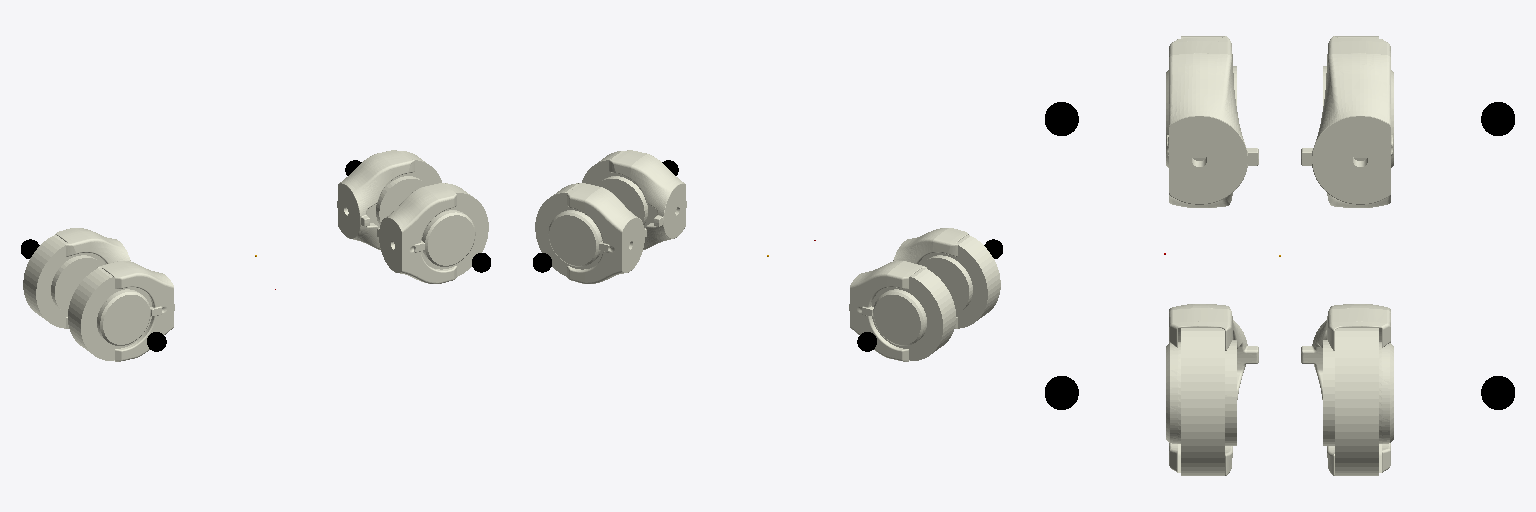
robot.urdf — go1_description:
<?xml version="1.0" ?>
<robot name="go1_description" xmlns:xacro="http://www.ros.org/wiki/xacro">
  <material name="black">
    <color rgba="0.0 0.0 0.0 1.0"/>
  </material>
  <material name="blue">
    <color rgba="0.0 0.0 0.8 1.0"/>
  </material>
  <material name="green">
    <color rgba="0.0 0.8 0.0 1.0"/>
  </material>
  <material name="grey">
    <color rgba="0.2 0.2 0.2 1.0"/>
  </material>
  <material name="silver">
    <color rgba="0.913725490196 0.913725490196 0.847058823529 1.0"/>
  </material>
  <material name="orange">
    <color rgba="1.0 0.423529411765 0.0392156862745 1.0"/>
  </material>
  <material name="brown">
    <color rgba="0.870588235294 0.811764705882 0.764705882353 1.0"/>
  </material>
  <material name="red">
    <color rgba="0.8 0.0 0.0 1.0"/>
  </material>
  <material name="white">
    <color rgba="1.0 1.0 1.0 1.0"/>
  </material>


  <link name="base">
    <visual>
      <origin rpy="0 0 0" xyz="0 0 0"/>
      <geometry>
        <box size="0.001 0.001 0.001"/>
      </geometry>
    </visual>
  </link>
  <joint name="floating_base" type="fixed">
    <origin rpy="0 0 0" xyz="0 0 0"/>
    <parent link="base"/>
    <child link="trunk"/>
  </joint>
  <link name="trunk">
    <visual>
      <origin rpy="0 0 0" xyz="0 0 0"/>
      <geometry>
        <mesh filename="trunk.stl" scale="1 1 1"/>
      </geometry>
      <material name="silver"/>
    </visual>
    <collision>
      <origin rpy="0 0 0" xyz="0 0 0"/>
      <geometry>
        <box size="0.3762 0.0935 0.114"/>
      </geometry>
    </collision>
    <inertial>
      <origin rpy="0 0 0" xyz="0.011611 0.004437 0.000108"/>
      <mass value="4.8"/>
      <inertia ixx="0.016130741919" ixy="0.000593180607" ixz="7.324662e-06" iyy="0.036507810812" iyz="2.0969537e-05" izz="0.044693872053"/>
    </inertial>
  </link>
  <joint name="imu_joint" type="fixed">
    <parent link="trunk"/>
    <child link="imu_link"/>
    <origin rpy="0 0 0" xyz="-0.01592 -0.06659 -0.00617"/>
  </joint>
  <link name="imu_link">
    <inertial>
      <mass value="0.001"/>
      <origin rpy="0 0 0" xyz="0 0 0"/>
      <inertia ixx="0.0001" ixy="0" ixz="0" iyy="0.0001" iyz="0" izz="0.0001"/>
    </inertial>
    <visual>
      <origin rpy="0 0 0" xyz="0 0 0"/>
      <geometry>
        <box size="0.001 0.001 0.001"/>
      </geometry>
      <material name="red"/>
    </visual>
    <!-- <collision>
      <origin rpy="0 0 0" xyz="0 0 0"/>
      <geometry>
        <box size=".001 .001 .001"/>
      </geometry>
    </collision> -->
  </link>
   <joint name="head_joint" type="fixed">
        <parent link="trunk"/>
        <child link="head_link"/>
        <origin rpy="0 0 0" xyz="0.27 0.0 0.0"/>
      </joint>
      <link name="head_link">
        <inertial>
          <mass value="0.000"/>
          <origin rpy="0 0 0" xyz="0 0 0"/>
          <inertia ixx="0.0000" ixy="0" ixz="0" iyy="0.0000" iyz="0" izz="0.0000"/>
        </inertial>
        <collision>
          <origin rpy="0 1.57079632679 0" xyz="0 0 0"/>
          <geometry>
            <cylinder radius="0.062" length="0.04"/>
          </geometry>
        </collision>
      </link>
  <joint name="FR_hip_joint" type="fixed">
    <origin rpy="0 0 0" xyz="0.1881 -0.04675 0"/>
    <parent link="trunk"/>
    <child link="FR_hip"/>
    <axis xyz="1 0 0"/>
    <dynamics damping="0" friction="0"/>
    <limit effort="33.5" lower="-0.802851455917" upper="0.802851455917" velocity="50"/>
  </joint>
  <link name="FR_hip">
    <visual>
      <origin rpy="3.14159265359 0 0" xyz="0 0 0"/>
      <geometry>
        <mesh filename="hip.stl" scale="1 1 1"/>
      </geometry>
      <material name="silver"/>
    </visual>
    <collision>
      <origin rpy="1.57079632679 0 0" xyz="0 -0.045 0"/>
      <geometry>
        <cylinder length="0.04" radius="0.046"/>
      </geometry>
    </collision>
    <inertial>
      <origin rpy="0 0 0" xyz="-0.00541 0.00074 6e-06"/>
      <mass value="0.510299"/>
      <inertia ixx="0.00030528937" ixy="7.788013e-06" ixz="2.2016e-07" iyy="0.000590894859" iyz="1.7175e-08" izz="0.000396594572"/>
    </inertial>
  </link>
  <joint name="FR_hip_fixed" type="fixed">
    <origin rpy="0 0 0" xyz="0 -0.08 0"/>
    <parent link="FR_hip"/>
    <child link="FR_thigh_shoulder"/>
  </joint>
  <!-- this link is only for collision -->
  <link name="FR_thigh_shoulder">
    <!-- <collision>
      <origin rpy="1.57079632679 0 0" xyz="0 0 0"/>
      <geometry>
        <cylinder length="0.032" radius="0.041"/>
      </geometry>
    </collision> -->
  </link>
  <joint name="FR_thigh_joint" type="fixed">
    <origin rpy="0 0 0" xyz="0 -0.08 0"/>
    <parent link="FR_hip"/>
    <child link="FR_foot"/>
    <axis xyz="0 1 0"/>
    <dynamics damping="0" friction="0"/>
    <limit effort="33.5" lower="-1.0471975512" upper="4.18879020479" velocity="28"/>
  </joint>
  <link name="FR_foot">
    <visual>
      <origin rpy="0 0 0" xyz="0 0 0"/>
      <geometry>
        <sphere radius="0.01"/>
      </geometry>
      <material name="black"/>
    </visual>
    <collision>
      <origin rpy="0 0 0" xyz="0 0 0"/>
      <geometry>
        <sphere radius="0.02"/>
      </geometry>
    </collision>
    <inertial>
      <mass value="0.06"/>
      <inertia ixx="9.6e-06" ixy="0.0" ixz="0.0" iyy="9.6e-06" iyz="0.0" izz="9.6e-06"/>
    </inertial>
  </link>

  <joint name="FL_hip_joint" type="fixed">
    <origin rpy="0 0 0" xyz="0.1881 0.04675 0"/>
    <parent link="trunk"/>
    <child link="FL_hip"/>
    <axis xyz="1 0 0"/>
    <dynamics damping="0" friction="0"/>
    <limit effort="33.5" lower="-0.802851455917" upper="0.802851455917" velocity="50"/>
  </joint>
  <link name="FL_hip">
    <visual>
      <origin rpy="0 0 0" xyz="0 0 0"/>
      <geometry>
        <mesh filename="hip.stl" scale="1 1 1"/>
      </geometry>
      <material name="silver"/>
    </visual>
    <collision>
      <origin rpy="1.57079632679 0 0" xyz="0 0.045 0"/>
      <geometry>
        <cylinder length="0.04" radius="0.046"/>
      </geometry>
    </collision>
    <inertial>
      <origin rpy="0 0 0" xyz="-0.00541 -0.00074 6e-06"/>
      <mass value="0.510299"/>
      <inertia ixx="0.00030528937" ixy="-7.788013e-06" ixz="2.2016e-07" iyy="0.000590894859" iyz="-1.7175e-08" izz="0.000396594572"/>
    </inertial>
  </link>
  <joint name="FL_hip_fixed" type="fixed">
    <origin rpy="0 0 0" xyz="0 0.08 0"/>
    <parent link="FL_hip"/>
    <child link="FL_thigh_shoulder"/>
  </joint>
  <!-- this link is only for collision -->
  <link name="FL_thigh_shoulder">
    <!-- <collision>
      <origin rpy="1.57079632679 0 0" xyz="0 0 0"/>
      <geometry>
        <cylinder length="0.032" radius="0.041"/>
      </geometry>
    </collision>  -->
  </link>
  <joint name="FL_thigh_joint" type="fixed">
    <origin rpy="0 0 0" xyz="0 0.08 0"/>
    <parent link="FL_hip"/>
    <child link="FL_foot"/>
    <axis xyz="0 1 0"/>
    <dynamics damping="0" friction="0"/>
    <limit effort="33.5" lower="-1.0471975512" upper="4.18879020479" velocity="28"/>
  </joint>

  <link name="FL_foot">
    <visual>
      <origin rpy="0 0 0" xyz="0 0 0"/>
      <geometry>
        <sphere radius="0.01"/>
      </geometry>
      <material name="black"/>
    </visual>
    <collision>
      <origin rpy="0 0 0" xyz="0 0 0"/>
      <geometry>
        <sphere radius="0.02"/>
      </geometry>
    </collision>
    <inertial>
      <mass value="0.06"/>
      <inertia ixx="9.6e-06" ixy="0.0" ixz="0.0" iyy="9.6e-06" iyz="0.0" izz="9.6e-06"/>
    </inertial>
  </link>

  <joint name="RR_hip_joint" type="fixed">
    <origin rpy="0 0 0" xyz="-0.1881 -0.04675 0"/>
    <parent link="trunk"/>
    <child link="RR_hip"/>
    <axis xyz="1 0 0"/>
    <dynamics damping="0" friction="0"/>
    <limit effort="33.5" lower="-0.802851455917" upper="0.802851455917" velocity="50"/>
  </joint>
  <link name="RR_hip">
    <visual>
      <origin rpy="3.14159265359 3.14159265359 0" xyz="0 0 0"/>
      <geometry>
        <mesh filename="hip.stl" scale="1 1 1"/>
      </geometry>
      <material name="silver"/>
    </visual>
    <collision>
      <origin rpy="1.57079632679 0 0" xyz="0 -0.045 0"/>
      <geometry>
        <cylinder length="0.04" radius="0.046"/>
      </geometry>
    </collision>
    <inertial>
      <origin rpy="0 0 0" xyz="0.00541 0.00074 6e-06"/>
      <mass value="0.510299"/>
      <inertia ixx="0.00030528937" ixy="-7.788013e-06" ixz="-2.2016e-07" iyy="0.000590894859" iyz="1.7175e-08" izz="0.000396594572"/>
    </inertial>
  </link>
  <joint name="RR_hip_fixed" type="fixed">
    <origin rpy="0 0 0" xyz="0 -0.08 0"/>
    <parent link="RR_hip"/>
    <child link="RR_thigh_shoulder"/>
  </joint>
  <!-- this link is only for collision -->
  <link name="RR_thigh_shoulder">
    <!-- <collision>
      <origin rpy="1.57079632679 0 0" xyz="0 0 0"/>
      <geometry>
        <cylinder length="0.032" radius="0.041"/>
      </geometry>
    </collision> -->
  </link>
  <joint name="RR_thigh_joint" type="fixed">
    <origin rpy="0 0 0" xyz="0 -0.08 0"/>
    <parent link="RR_hip"/>
    <child link="RR_foot"/>
    <axis xyz="0 1 0"/>
    <dynamics damping="0" friction="0"/>
    <limit effort="33.5" lower="-1.0471975512" upper="4.18879020479" velocity="28"/>
  </joint>
  <link name="RR_foot">
    <visual>
      <origin rpy="0 0 0" xyz="0 0 0"/>
      <geometry>
        <sphere radius="0.01"/>
      </geometry>
      <material name="black"/>
    </visual>
    <collision>
      <origin rpy="0 0 0" xyz="0 0 0"/>
      <geometry>
        <sphere radius="0.02"/>
      </geometry>
    </collision>
    <inertial>
      <mass value="0.06"/>
      <inertia ixx="9.6e-06" ixy="0.0" ixz="0.0" iyy="9.6e-06" iyz="0.0" izz="9.6e-06"/>
    </inertial>
  </link>

  <joint name="RL_hip_joint" type="fixed">
    <origin rpy="0 0 0" xyz="-0.1881 0.04675 0"/>
    <parent link="trunk"/>
    <child link="RL_hip"/>
    <axis xyz="1 0 0"/>
    <dynamics damping="0" friction="0"/>
    <limit effort="33.5" lower="-0.802851455917" upper="0.802851455917" velocity="50"/>
  </joint>
  <link name="RL_hip">
    <visual>
      <origin rpy="0 3.14159265359 0" xyz="0 0 0"/>
      <geometry>
        <mesh filename="hip.stl" scale="1 1 1"/>
      </geometry>
      <material name="silver"/>
    </visual>
    <collision>
      <origin rpy="1.57079632679 0 0" xyz="0 0.045 0"/>
      <geometry>
        <cylinder length="0.04" radius="0.046"/>
      </geometry>
    </collision>
    <inertial>
      <origin rpy="0 0 0" xyz="0.00541 -0.00074 6e-06"/>
      <mass value="0.510299"/>
      <inertia ixx="0.00030528937" ixy="7.788013e-06" ixz="-2.2016e-07" iyy="0.000590894859" iyz="-1.7175e-08" izz="0.000396594572"/>
    </inertial>
  </link>
  <joint name="RL_hip_fixed" type="fixed">
    <origin rpy="0 0 0" xyz="0 0.08 0"/>
    <parent link="RL_hip"/>
    <child link="RL_thigh_shoulder"/>
  </joint>
  <!-- this link is only for collision -->
  <link name="RL_thigh_shoulder">
    <!-- <collision>
      <origin rpy="1.57079632679 0 0" xyz="0 0 0"/>
      <geometry>
        <cylinder length="0.032" radius="0.041"/>
      </geometry>
    </collision> -->
  </link>
  <joint name="RL_thigh_joint" type="fixed">
    <origin rpy="0 0 0" xyz="0 0.08 0"/>
    <parent link="RL_hip"/>
    <child link="RL_foot"/>
    <axis xyz="0 1 0"/>
    <dynamics damping="0" friction="0"/>
    <limit effort="33.5" lower="-1.0471975512" upper="4.18879020479" velocity="28"/>
  </joint>
  <link name="RL_foot">
    <visual>
      <origin rpy="0 0 0" xyz="0 0 0"/>
      <geometry>
        <sphere radius="0.01"/>
      </geometry>
      <material name="black"/>
    </visual>
    <collision>
      <origin rpy="0 0 0" xyz="0 0 0"/>
      <geometry>
        <sphere radius="0.02"/>
      </geometry>
    </collision>
    <inertial>
      <mass value="0.06"/>
      <inertia ixx="9.6e-06" ixy="0.0" ixz="0.0" iyy="9.6e-06" iyz="0.0" izz="9.6e-06"/>
    </inertial>
  </link>
 </robot>

--- What the picture shows (computed from the rendered views, not written in the file) ---
Views: 3 orthographic renders of the robot side by side, from view 1: azimuth 30°, elevation 25°; view 2: azimuth 150°, elevation 25°; view 3: azimuth 270°, elevation 25°.
Model go1_description with 16 links and 15 joints (15 fixed), rooted at base, posed all joints at 0.
Links seen in each view (by area): view 1: FR_hip, RR_hip, RL_hip, FL_hip; view 2: FL_hip, RL_hip, RR_hip, FR_hip; view 3: FR_hip, FL_hip, RR_hip, RL_hip, FR_foot, FL_foot, RR_foot, RL_foot.
Boxes of the visible links, x1,y1,x2,y2 form: FR_hip: (377,183,488,283); RR_hip: (68,261,174,361); RL_hip: (23,228,130,328); FL_hip: (337,150,441,249); FL_hip: (535,183,646,283); RL_hip: (849,261,955,361); RR_hip: (893,228,1000,328); FR_hip: (582,150,686,249); FR_hip: (1166,304,1258,475); FL_hip: (1301,304,1393,475); RR_hip: (1166,36,1258,207); RL_hip: (1301,36,1393,207); FR_foot: (1045,376,1078,409); FL_foot: (1481,376,1514,409); RR_foot: (1045,102,1078,135); RL_foot: (1481,102,1514,135).
Size in the robot's own frame: 0.4726 by 0.2735 by 0.0963 metres.
Meshes: 2 distinct files referenced, 4 mesh visuals loaded (1 binary STL); not drawn: 1 (reference not matched to a file when rendering).